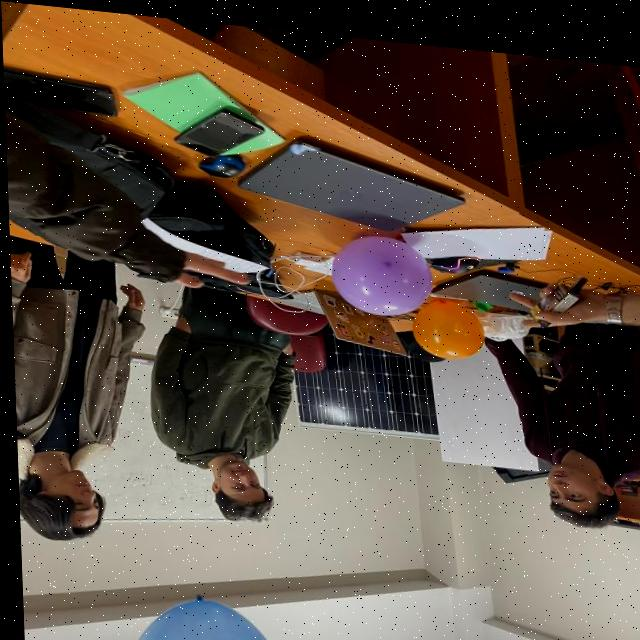balloon: (325, 225, 423, 306), (412, 286, 482, 356)
